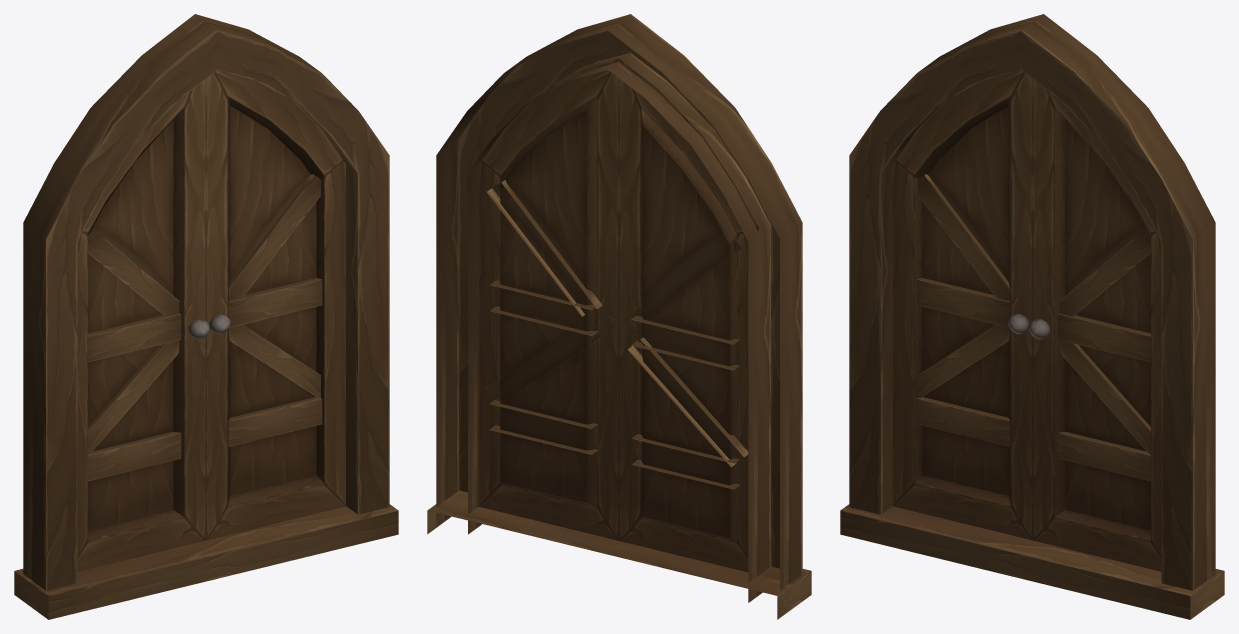
The model's file is Door_fake_1.FBX.
3 renders of one model, left to right at view 1: azimuth 30°, elevation 25°; view 2: azimuth 150°, elevation 25°; view 3: azimuth 330°, elevation 25°, orthographic.
Visible parts, largest first — view 1: Door_fake_1; view 2: Door_fake_1; view 3: Door_fake_1.
Part boxes in pixels (box(x1,y1,x2,y2)): Door_fake_1: box(14, 14, 398, 619); Door_fake_1: box(427, 14, 811, 619); Door_fake_1: box(840, 14, 1224, 619).
Bounding box in the file's own units: 1738 × 2574 × 295.
